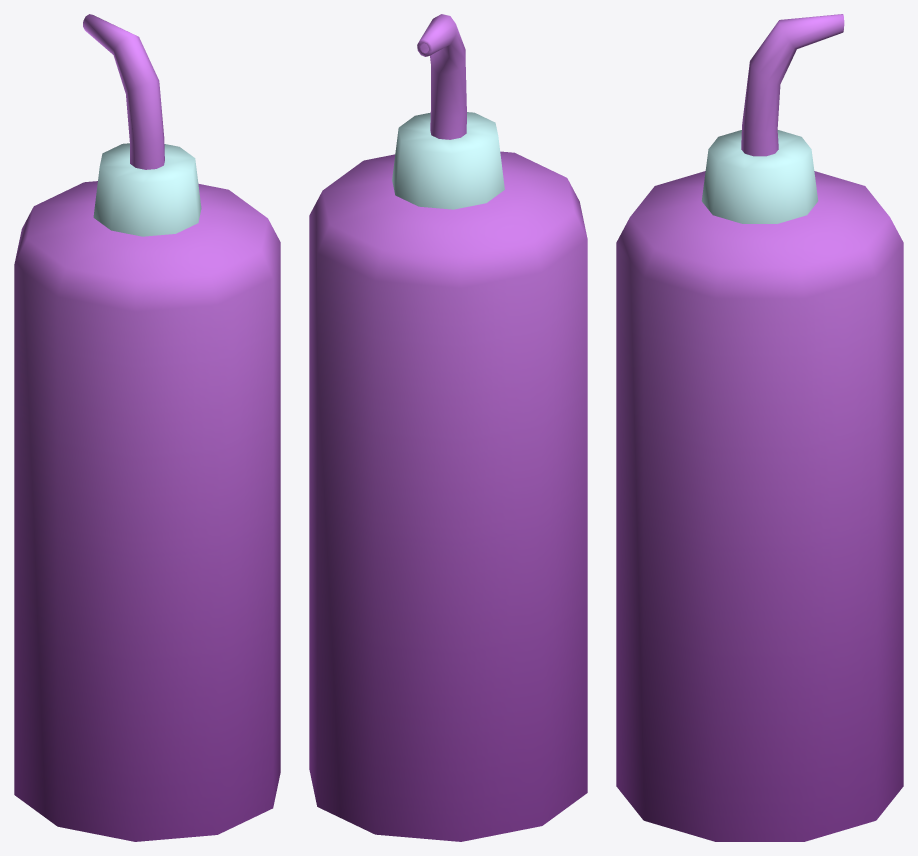
The model's file is pumpbottle_purple.fbx.
The picture shows the model from 3 angles, left to right: view 1: azimuth 30°, elevation 25°; view 2: azimuth 150°, elevation 25°; view 3: azimuth 270°, elevation 25°; orthographic projection. The views are drawn at different scales.
Parts seen in each view (by area): view 1: pumpbottle_purple; view 2: pumpbottle_purple; view 3: pumpbottle_purple.
Boxes of the visible parts, x1,y1,x2,y2 form: pumpbottle_purple: (14, 14, 280, 841); pumpbottle_purple: (309, 14, 587, 841); pumpbottle_purple: (616, 14, 903, 841).
Bounding box in the file's own units: 105 × 335 × 114.
